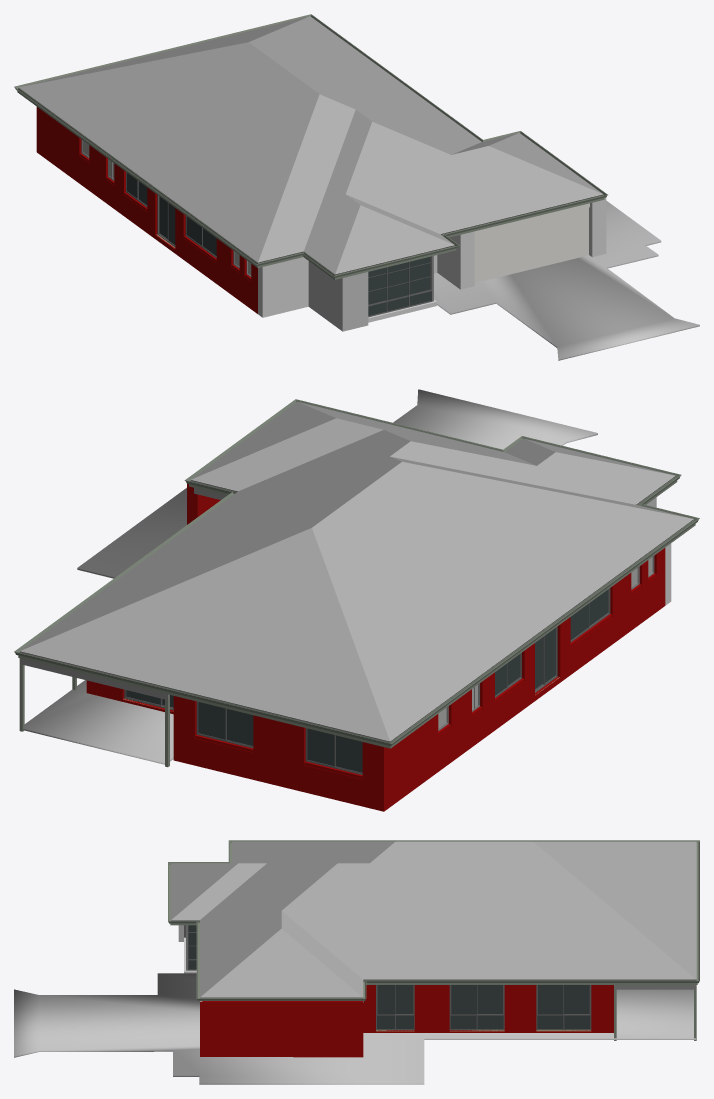
File: testModel.gltf
3 renders of one model, top to bottom at view 1: azimuth 30°, elevation 25°; view 2: azimuth 150°, elevation 25°; view 3: azimuth 270°, elevation 25°, orthographic. The views are drawn at different scales.
Parts seen in each view (by area): view 1: J1__ROOF-_COVER_ ROOF_-_COLORBOND, C1__CONCRETE-_FLOOR_SLAB_ _FEATURE_LIMESTONE, D1__WALLS-_EXTERNAL_ _FACE_BRICK_1, D1__WALLS-_EXTERNAL_ _RENDER, D1__WALLS-_EXTERNAL_ DOOR_-_LAMINATE__LIGHT_, D1__WALLS-_EXTERNAL_ GLASS, J3__ROOF-_GUTTER_GABLES_ GUTTER, D1__WALLS-_EXTERNAL_ TILING, J3__ROOF-_GUTTER_GABLES_ FASCIA, D1__WALLS-_EXTERNAL_ PEN_MATERIAL11, J1__ROOF-_COVER_ PEN_MATERIAL11; view 2: J1__ROOF-_COVER_ ROOF_-_COLORBOND, D1__WALLS-_EXTERNAL_ _FACE_BRICK_1, C1__CONCRETE-_FLOOR_SLAB_ _FEATURE_LIMESTONE, J3__ROOF-_GUTTER_GABLES_ GUTTER, D1__WALLS-_EXTERNAL_ GLASS, J3__ROOF-_GUTTER_GABLES_ FASCIA, D1__WALLS-_EXTERNAL_ PEN_MATERIAL11, D1__WALLS-_EXTERNAL_ BEAM, J1__ROOF-_COVER_ PEN_MATERIAL11, D1__WALLS-_EXTERNAL_ FASCIA; view 3: J1__ROOF-_COVER_ ROOF_-_COLORBOND, C1__CONCRETE-_FLOOR_SLAB_ _FEATURE_LIMESTONE, D1__WALLS-_EXTERNAL_ _FACE_BRICK_1, D1__WALLS-_EXTERNAL_ GLASS, J3__ROOF-_GUTTER_GABLES_ GUTTER, D1__WALLS-_EXTERNAL_ PEN_MATERIAL11, J3__ROOF-_GUTTER_GABLES_ FASCIA, J1__ROOF-_COVER_ PEN_MATERIAL11, D1__WALLS-_EXTERNAL_ BEAM.
Part boxes in pixels (box(x1,y1,x2,y2)): J1__ROOF-_COVER_ ROOF_-_COLORBOND: box(19, 16, 603, 274); C1__CONCRETE-_FLOOR_SLAB_ _FEATURE_LIMESTONE: box(434, 200, 699, 360); D1__WALLS-_EXTERNAL_ _FACE_BRICK_1: box(36, 107, 257, 313); D1__WALLS-_EXTERNAL_ _RENDER: box(258, 197, 606, 322); D1__WALLS-_EXTERNAL_ DOOR_-_LAMINATE__LIGHT_: box(474, 207, 588, 282); D1__WALLS-_EXTERNAL_ GLASS: box(127, 173, 430, 315); J3__ROOF-_GUTTER_GABLES_ GUTTER: box(14, 14, 607, 277); D1__WALLS-_EXTERNAL_ TILING: box(308, 261, 368, 331); J3__ROOF-_GUTTER_GABLES_ FASCIA: box(17, 88, 604, 279); D1__WALLS-_EXTERNAL_ PEN_MATERIAL11: box(126, 172, 432, 317); J1__ROOF-_COVER_ PEN_MATERIAL11: box(19, 88, 603, 274); J1__ROOF-_COVER_ ROOF_-_COLORBOND: box(20, 401, 693, 741); D1__WALLS-_EXTERNAL_ _FACE_BRICK_1: box(86, 483, 665, 811); C1__CONCRETE-_FLOOR_SLAB_ _FEATURE_LIMESTONE: box(23, 389, 597, 764); J3__ROOF-_GUTTER_GABLES_ GUTTER: box(14, 399, 699, 746); D1__WALLS-_EXTERNAL_ GLASS: box(126, 589, 608, 772); J3__ROOF-_GUTTER_GABLES_ FASCIA: box(18, 477, 695, 748); D1__WALLS-_EXTERNAL_ PEN_MATERIAL11: box(124, 588, 610, 774); D1__WALLS-_EXTERNAL_ BEAM: box(20, 488, 226, 699); J1__ROOF-_COVER_ PEN_MATERIAL11: box(20, 476, 694, 742); D1__WALLS-_EXTERNAL_ FASCIA: box(19, 658, 169, 767); J1__ROOF-_COVER_ ROOF_-_COLORBOND: box(171, 841, 696, 997); C1__CONCRETE-_FLOOR_SLAB_ _FEATURE_LIMESTONE: box(14, 973, 695, 1084); D1__WALLS-_EXTERNAL_ _FACE_BRICK_1: box(200, 985, 613, 1057); D1__WALLS-_EXTERNAL_ GLASS: box(188, 925, 590, 1029); J3__ROOF-_GUTTER_GABLES_ GUTTER: box(168, 840, 699, 1000); D1__WALLS-_EXTERNAL_ PEN_MATERIAL11: box(184, 925, 591, 1030); J3__ROOF-_GUTTER_GABLES_ FASCIA: box(170, 920, 697, 1002); J1__ROOF-_COVER_ PEN_MATERIAL11: box(171, 920, 696, 997); D1__WALLS-_EXTERNAL_ BEAM: box(614, 985, 696, 989).
Bounding box in the file's own units: 16.33 × 5.46 × 25.67.
